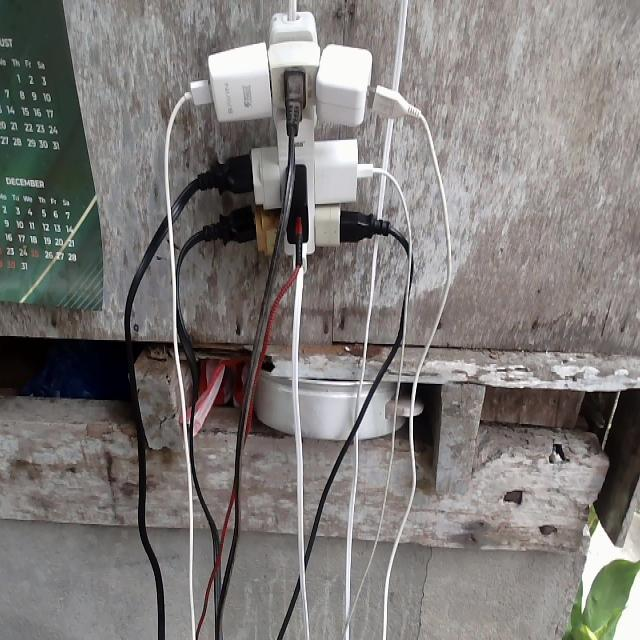-: (197, 8, 379, 256)
